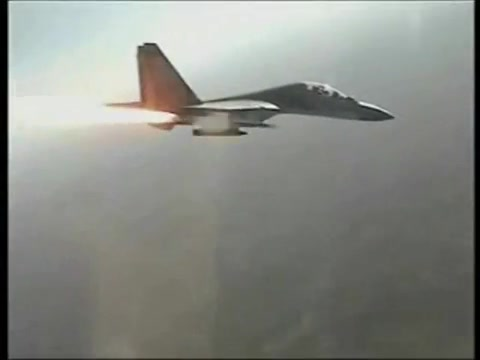aeroplane: (103, 44, 396, 138)
